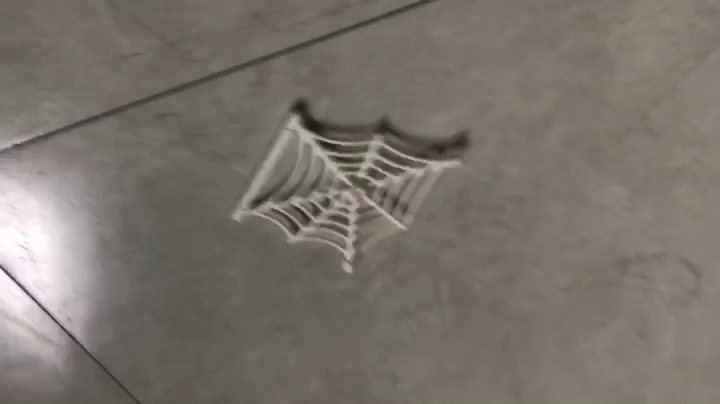web: (230, 99, 472, 276)
